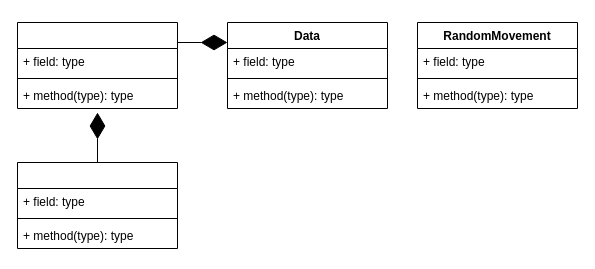
Some shapes in this 595 by 269 pixel diagram are drawn without their labels. Each missing label, with the box of its shape:
GUI: (16, 162, 178, 248)
RobotController: (16, 22, 178, 108)
